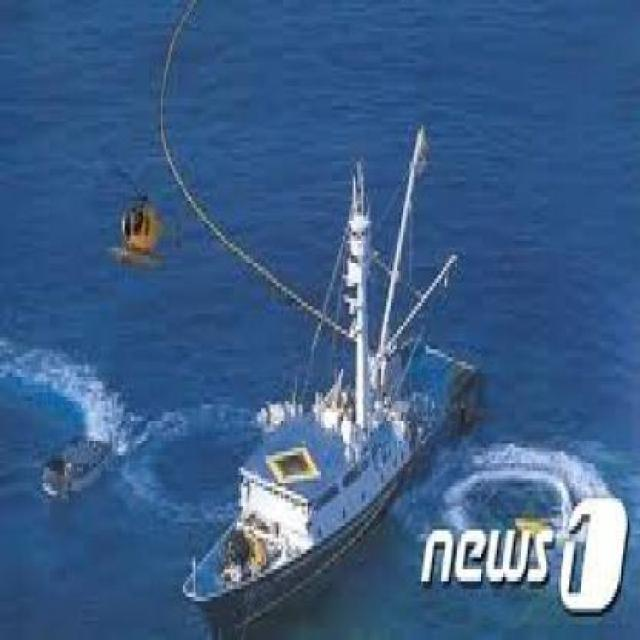fish-b: (170, 99, 494, 630)
